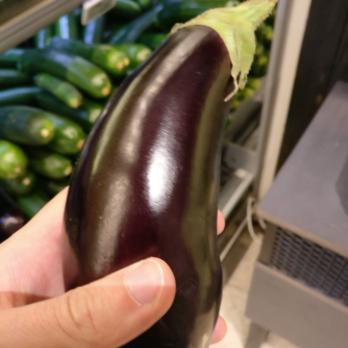Brinjal: (62, 0, 261, 348)
